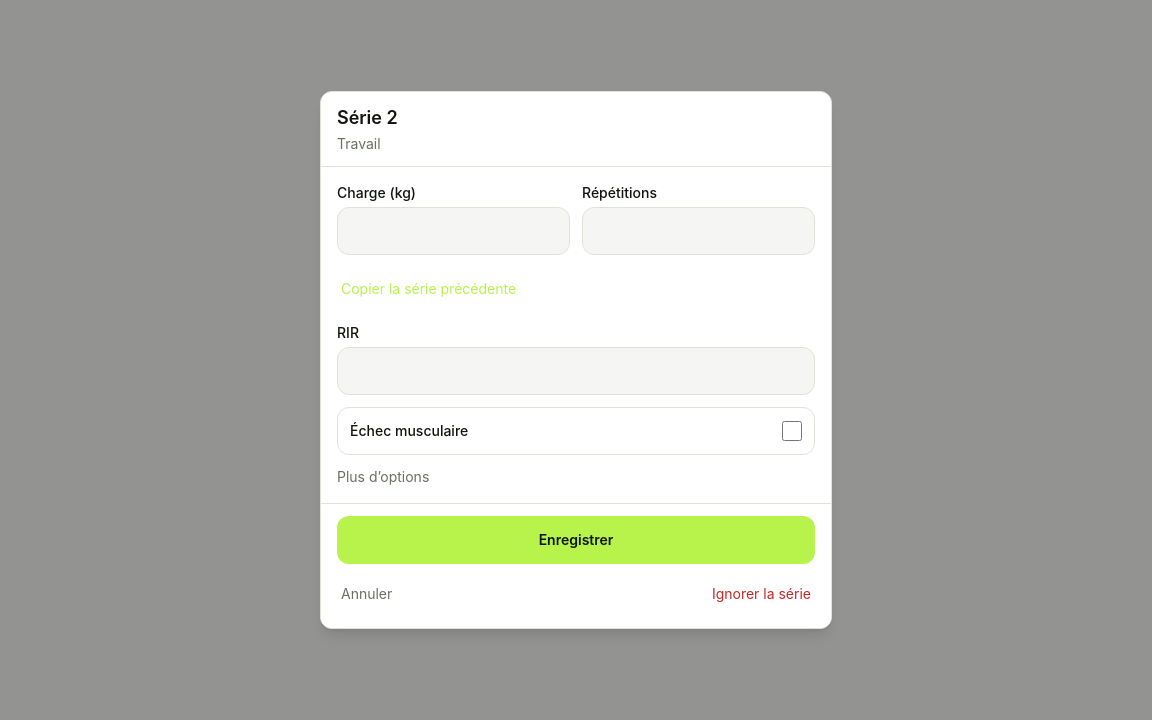
WorkoutSetFormDialog › fonctionne sur un exercice ajouté à la volée
What coordinates should you click on to do the following:
click the button "Copier la série précédente"
I would click on:
 (429, 289)
Its box is [337, 267, 520, 311].
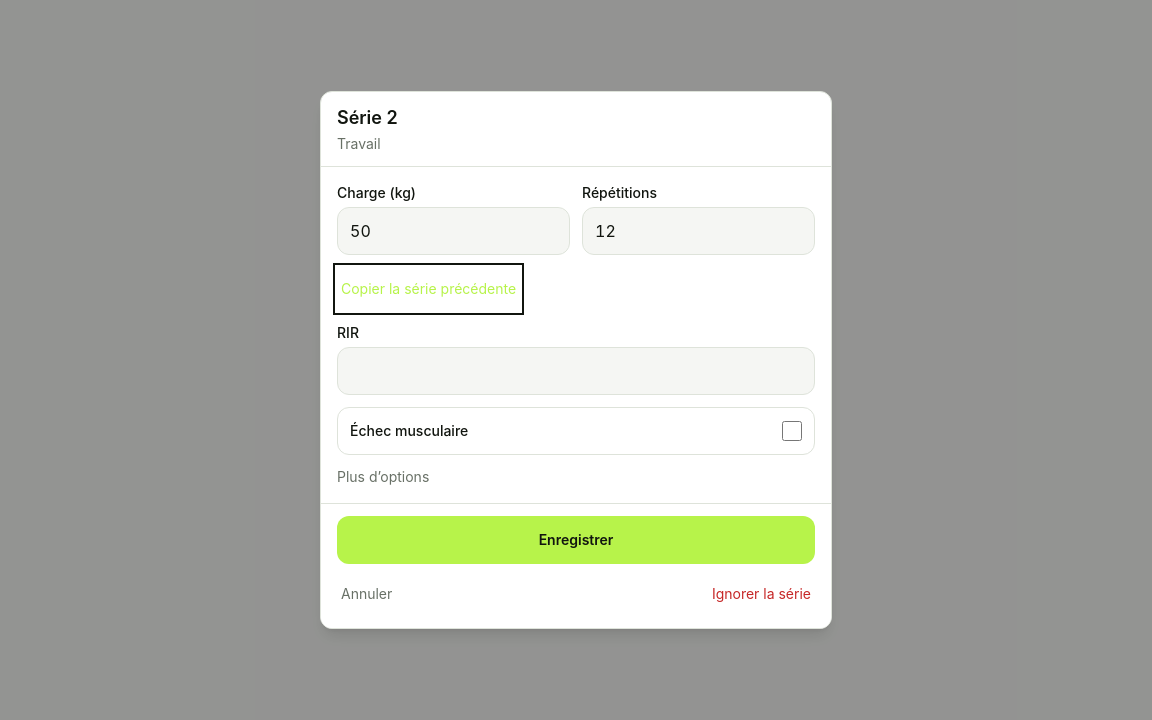
Check: the number field labelled "Charge (kg)" holds "50", box [337, 207, 570, 255]
Check: the number field labelled "Répétitions" holds "12", box [582, 207, 815, 255]
